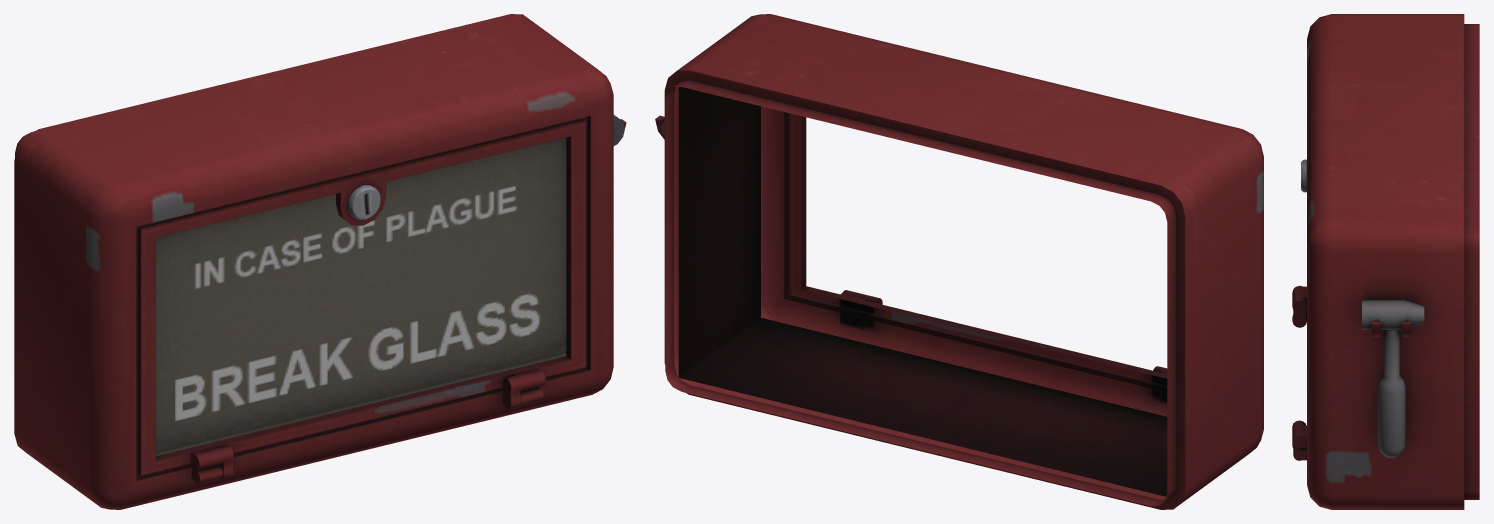
Rendered from plague_box.glb.
3 renders of one model, left to right at view 1: azimuth 30°, elevation 25°; view 2: azimuth 150°, elevation 25°; view 3: azimuth 270°, elevation 25°, orthographic. The views are drawn at different scales.
Parts seen in each view (by area): view 1: plague_box; view 2: plague_box; view 3: plague_box.
Boxes of the visible parts, left/top/right/bottom form: plague_box: left=14, top=14, right=626, bottom=509; plague_box: left=655, top=14, right=1263, bottom=509; plague_box: left=1292, top=14, right=1479, bottom=509.
Size of the model in its own units: 0.7683 by 0.4252 by 0.2515.
2 materials, 2 textured.
